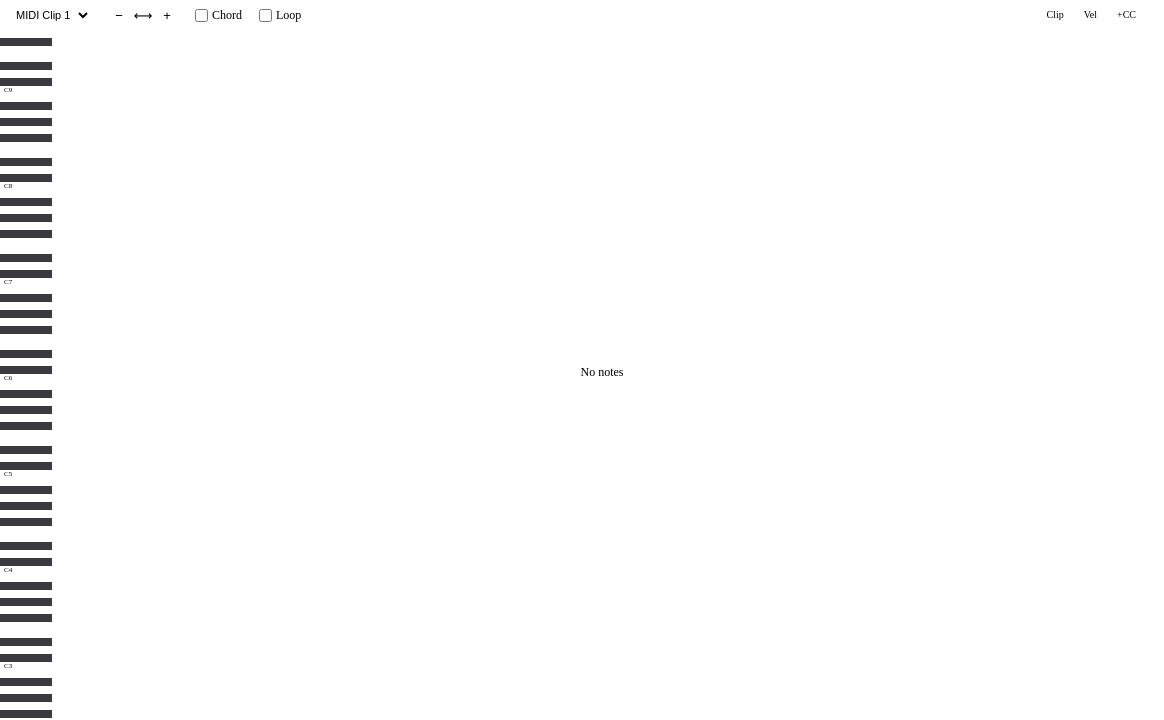
Test case: PianoRoll › Chord Mode › chord type defaults to major
The image size is (1164, 720).
Step 1. Click the checkbox labelled "Chord" → (202, 15), box [195,8,208,22]
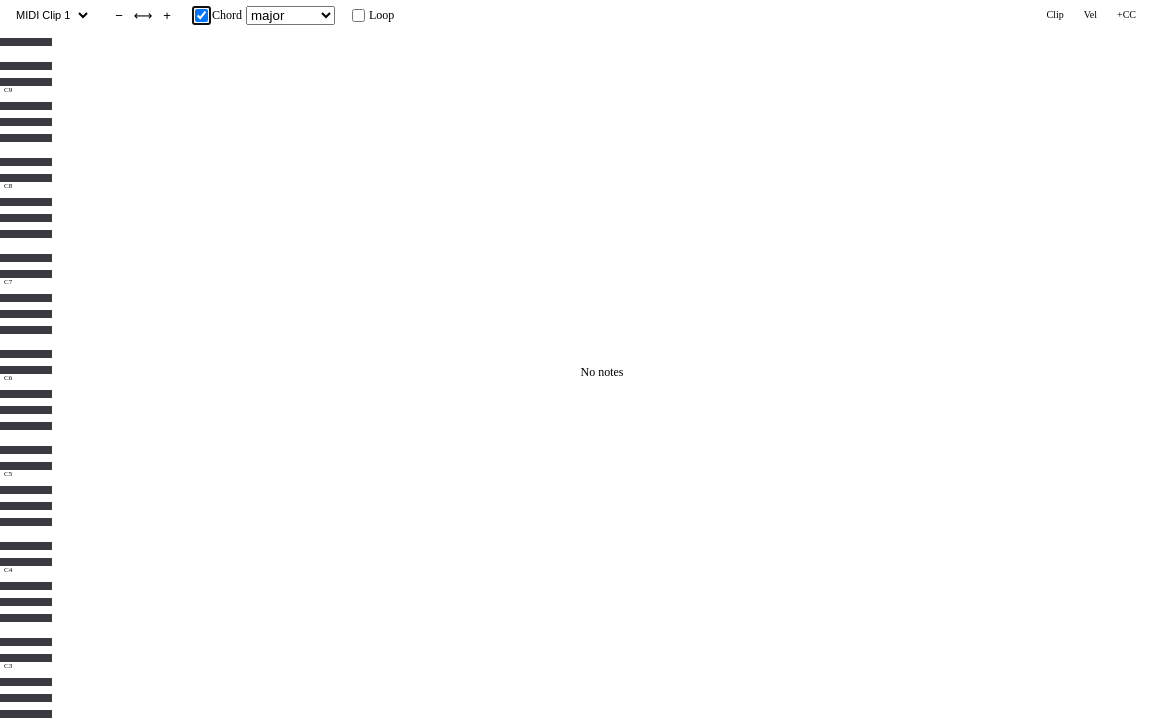
expect the 2nd dropdown shows "major": met, box [246,6,335,24]
